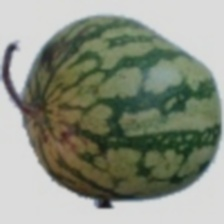watermelon: (25, 42, 196, 205)
